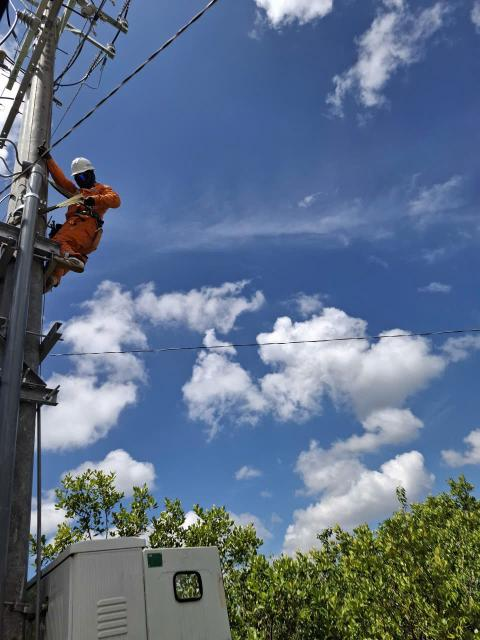gloves: (37, 143, 54, 161), (82, 193, 97, 205)
harness: (69, 202, 109, 231)
helmet: (63, 155, 99, 179)
shoes: (46, 252, 87, 275), (38, 268, 61, 298)
